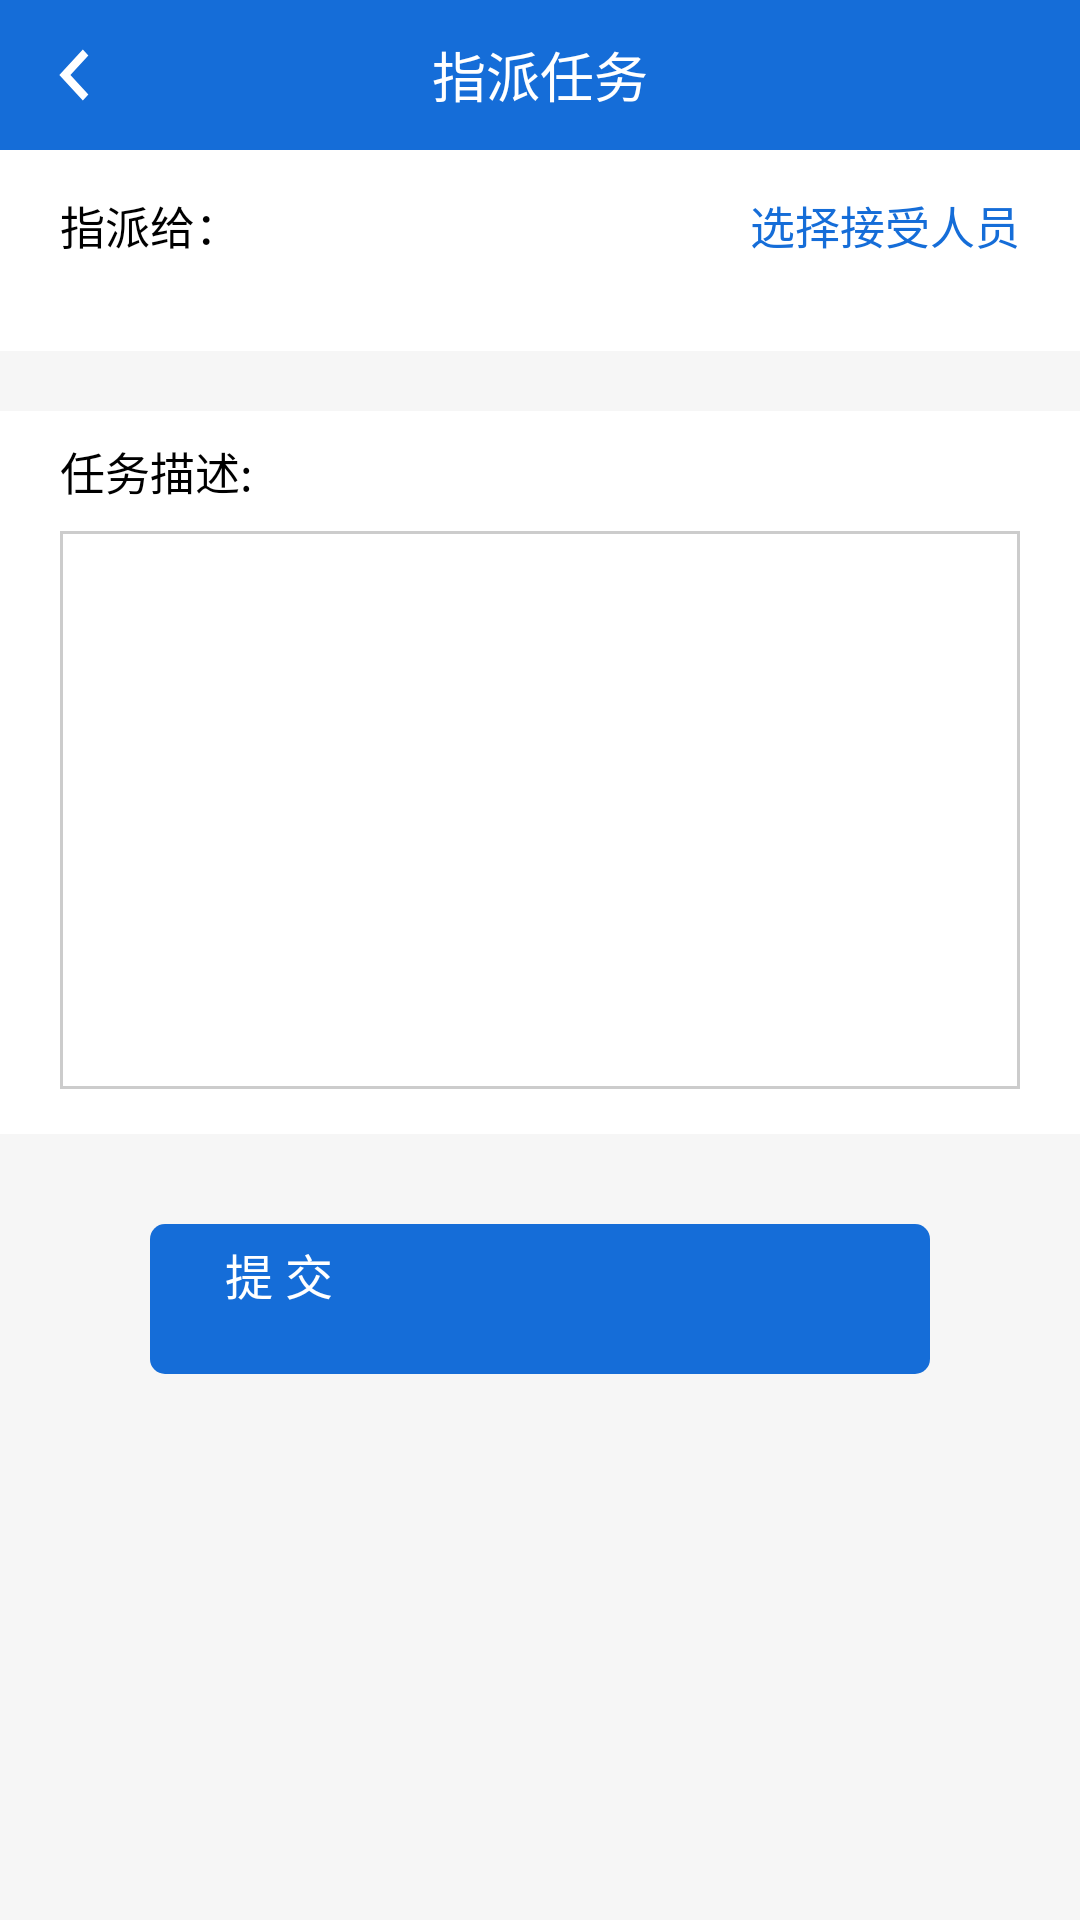

Screen size 1080px x 1920px. Icon name, then its center in pixels as (x,y):
left: (74,75)
